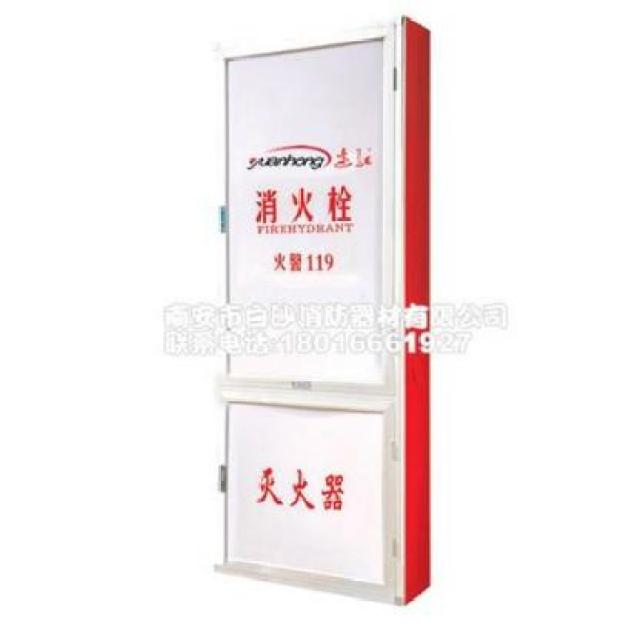firehydrant: (212, 9, 440, 612)
